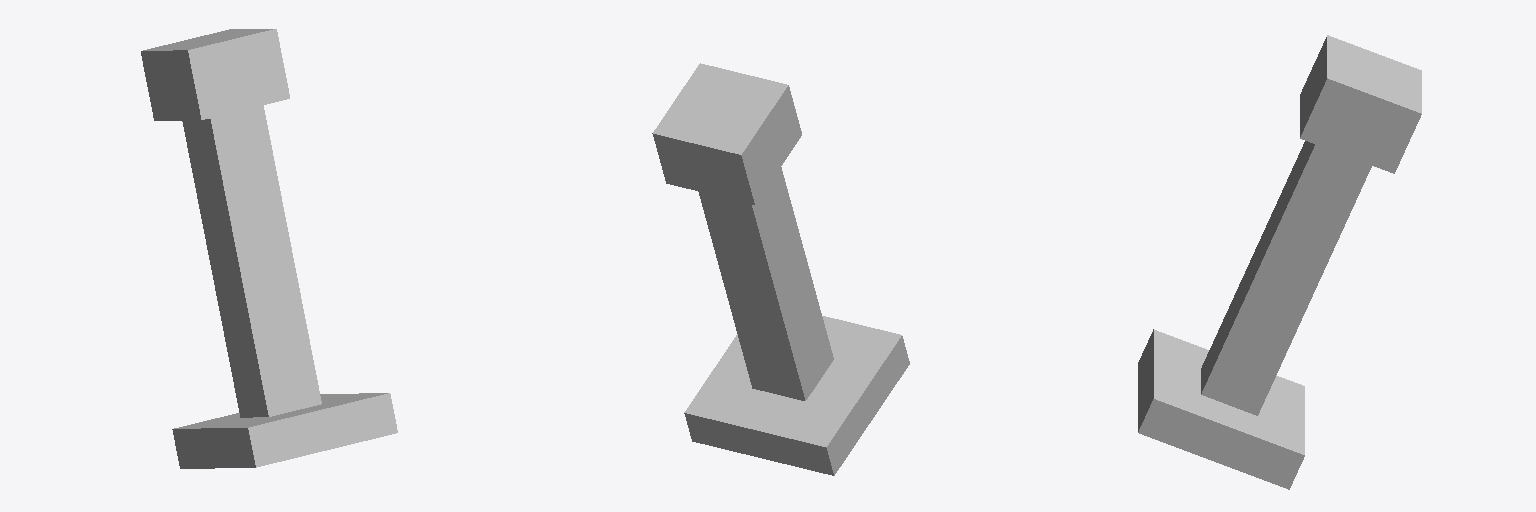
File: pestle_inside.obj
3 renders of one model, left to right at view 1: azimuth 30°, elevation 25°; view 2: azimuth 150°, elevation 25°; view 3: azimuth 270°, elevation 25°, orthographic.
Bounding box in the file's own units: 0.25 × 0.6696 × 0.4328.